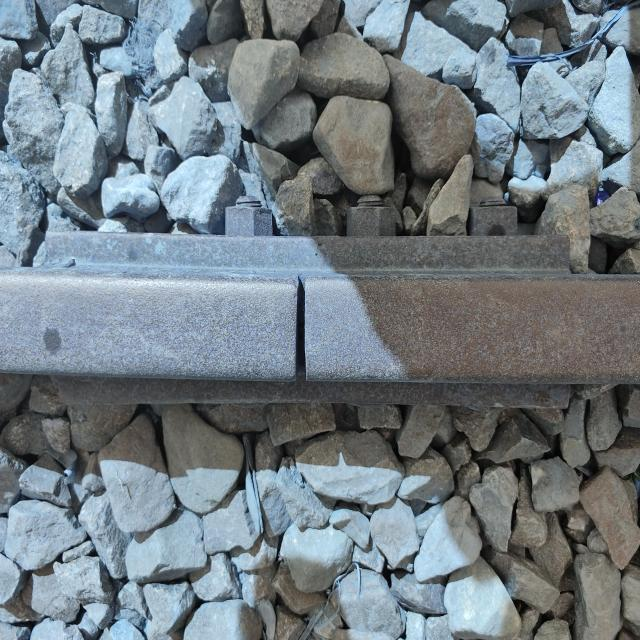Defective Joint: (45, 223, 601, 424)
